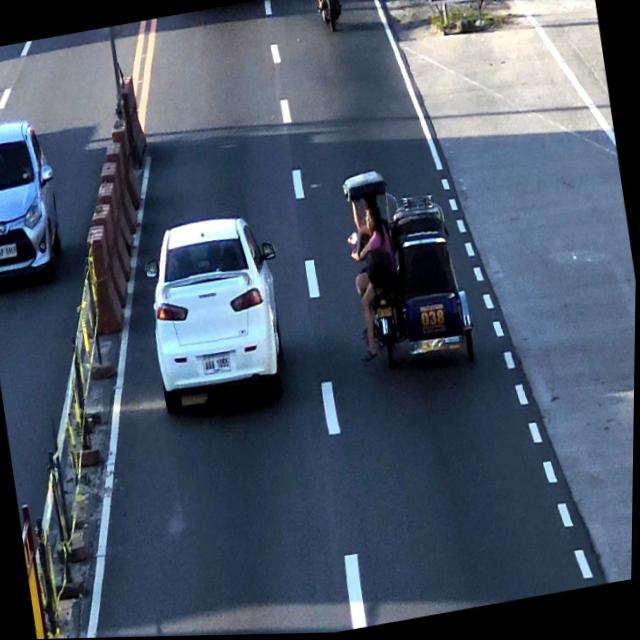Car: (137, 209, 294, 417)
License-Plate: (201, 351, 235, 380), (374, 306, 397, 324)
Motorcycle: (314, 0, 343, 35)
Tricycle: (336, 161, 483, 379)
